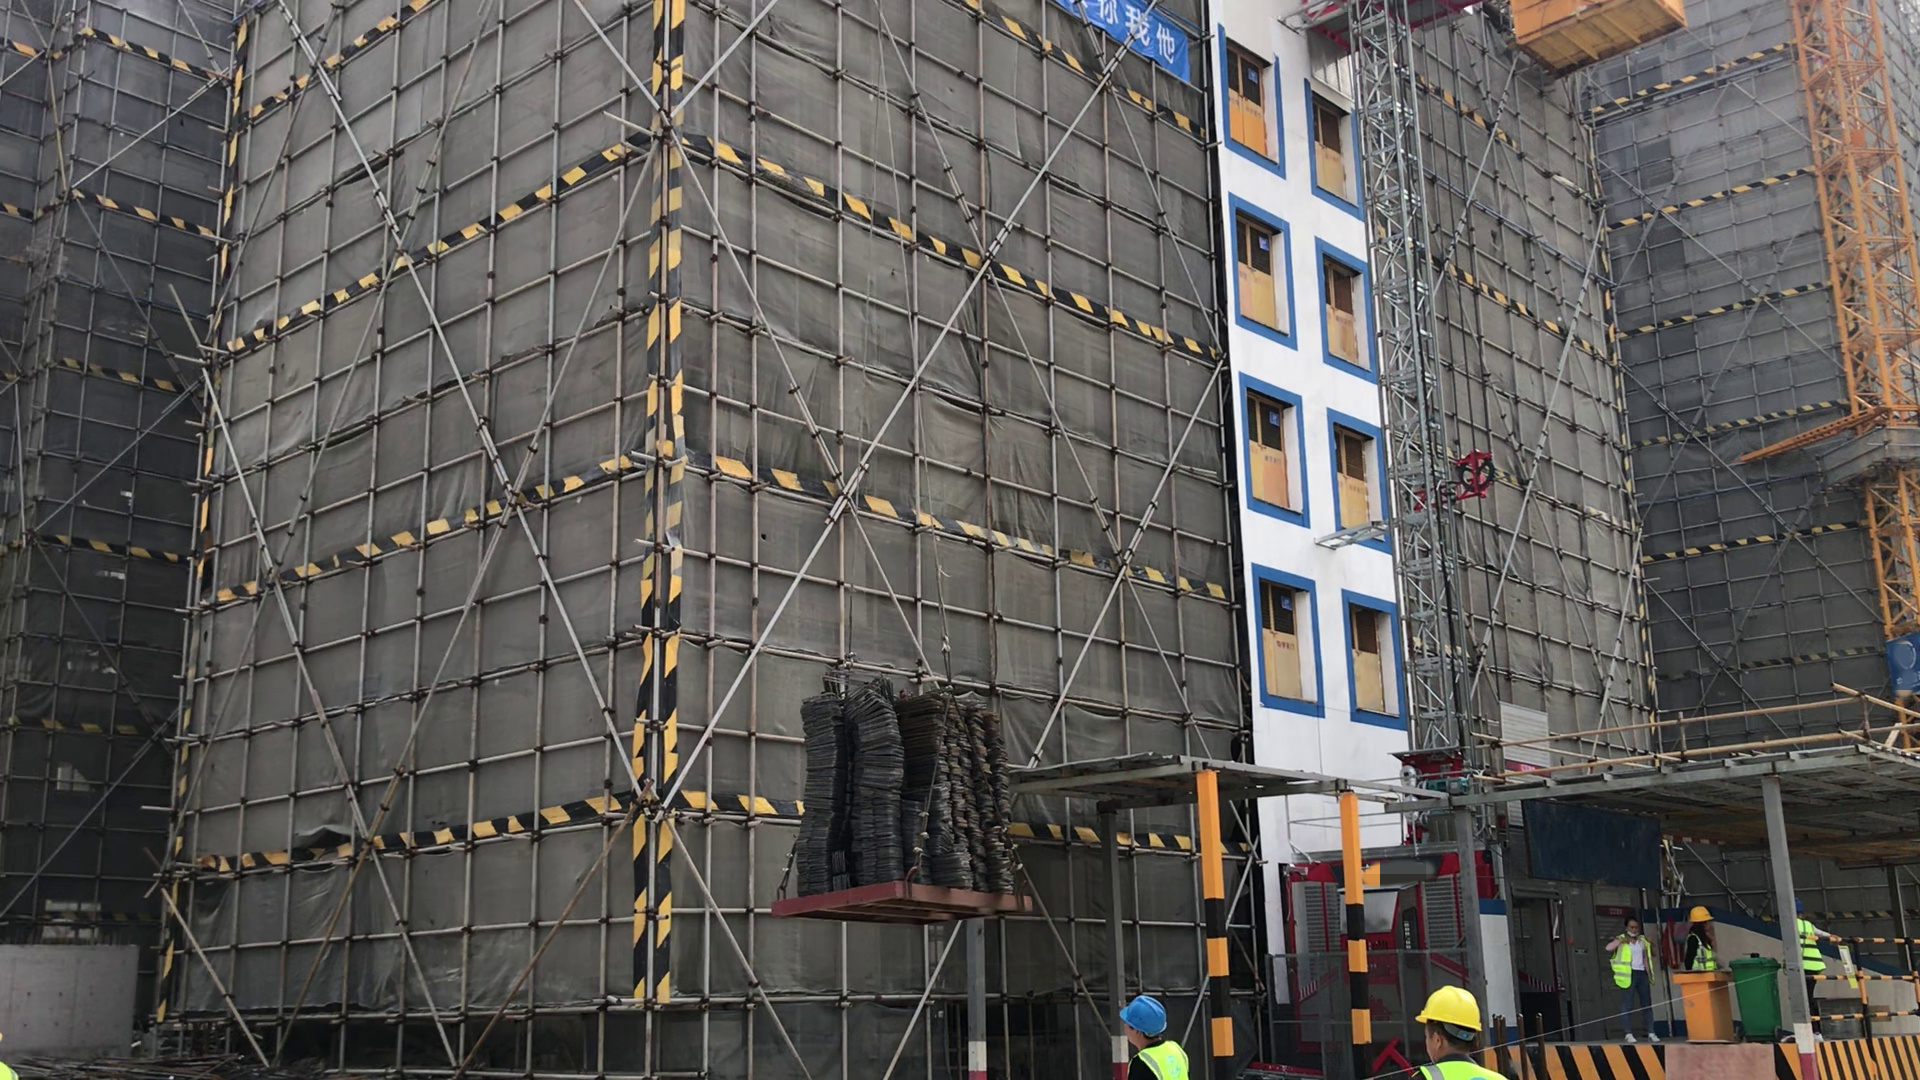helmet: (1415, 981, 1493, 1047), (1116, 983, 1175, 1041), (1688, 903, 1723, 934)
person: (1392, 983, 1525, 1080), (1101, 974, 1188, 1080), (1600, 914, 1663, 1046), (1782, 906, 1843, 1008), (1678, 907, 1747, 987)
vest: (1405, 1050, 1531, 1080), (1786, 912, 1834, 988), (1605, 931, 1656, 993), (1125, 1042, 1196, 1080), (1684, 931, 1729, 973)
